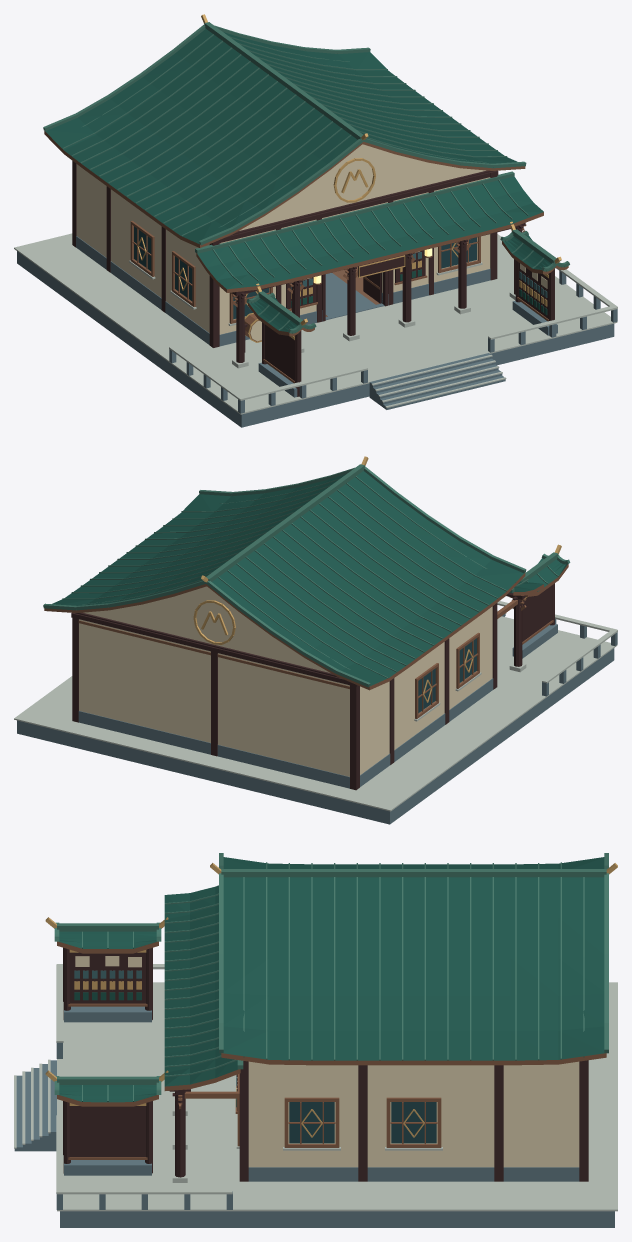
The model's file is mission_hall.glb.
3 renders of one model, top to bottom at view 1: azimuth 30°, elevation 25°; view 2: azimuth 150°, elevation 25°; view 3: azimuth 270°, elevation 25°, orthographic. The views are drawn at different scales.
Visible parts, largest first — view 1: MissionHall / Jade, MissionHall / Coping, MissionHall / TileLight, MissionHall / Stone, MissionHall / Plaster, MissionHall / Timber, MissionHall / Cedar, MissionHall / Bronze, MissionHall / Window; view 2: MissionHall / Jade, MissionHall / Plaster, MissionHall / Coping, MissionHall / TileLight, MissionHall / Stone, MissionHall / Timber, MissionHall / Cedar, MissionHall / Window, MissionHall / Bronze; view 3: MissionHall / Jade, MissionHall / Coping, MissionHall / Plaster, MissionHall / Stone, MissionHall / TileLight, MissionHall / Timber, MissionHall / Cedar, MissionHall / Window, MissionHall / Bronze.
Part boxes in pixels (bbox=[...]): MissionHall / Jade: bbox=[44, 29, 551, 331]; MissionHall / Coping: bbox=[14, 233, 617, 414]; MissionHall / TileLight: bbox=[43, 22, 569, 333]; MissionHall / Stone: bbox=[17, 236, 617, 427]; MissionHall / Plaster: bbox=[76, 144, 547, 341]; MissionHall / Timber: bbox=[72, 161, 554, 396]; MissionHall / Cedar: bbox=[44, 131, 568, 383]; MissionHall / Bronze: bbox=[137, 14, 561, 342]; MissionHall / Window: bbox=[134, 226, 476, 319]; MissionHall / Jade: bbox=[51, 471, 567, 686]; MissionHall / Plaster: bbox=[79, 586, 492, 776]; MissionHall / Coping: bbox=[14, 601, 617, 811]; MissionHall / TileLight: bbox=[43, 464, 570, 687]; MissionHall / Stone: bbox=[17, 614, 617, 824]; MissionHall / Timber: bbox=[71, 583, 554, 790]; MissionHall / Cedar: bbox=[44, 564, 568, 718]; MissionHall / Window: bbox=[418, 638, 476, 713]; MissionHall / Bronze: bbox=[193, 456, 561, 702]; MissionHall / Jade: bbox=[59, 857, 605, 1107]; MissionHall / Coping: bbox=[14, 964, 617, 1211]; MissionHall / Plaster: bbox=[75, 956, 579, 1167]; MissionHall / Stone: bbox=[14, 1006, 614, 1227]; MissionHall / TileLight: bbox=[54, 853, 608, 1101]; MissionHall / Timber: bbox=[63, 947, 588, 1181]; MissionHall / Cedar: bbox=[57, 941, 606, 1159]; MissionHall / Window: bbox=[289, 1102, 436, 1143]; MissionHall / Bronze: bbox=[45, 863, 617, 1137].
Size of the model in its own units: 19.06 by 9.81 by 21.32.
